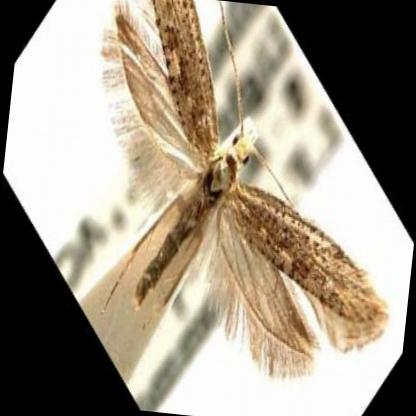plutella: (79, 0, 389, 386)
